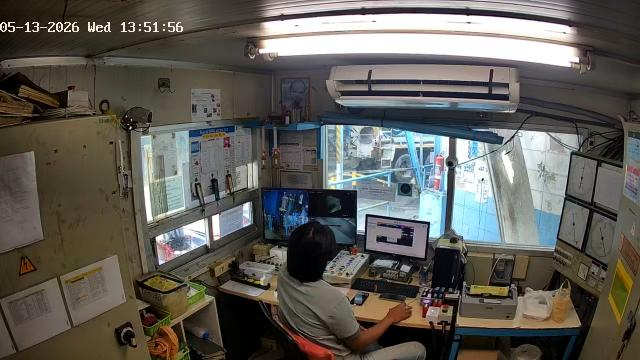Head: (287, 222, 336, 282)
People: (278, 222, 425, 359)
Phone: (379, 293, 406, 302), (352, 292, 369, 305)
